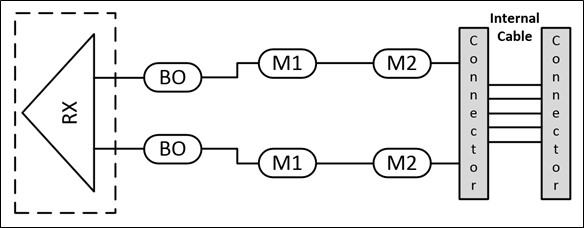dotted_rectangle: (10, 7, 119, 221)
oval: (256, 42, 322, 86), (368, 43, 437, 83), (256, 143, 323, 183), (142, 56, 206, 96), (369, 145, 435, 183), (143, 132, 203, 166)
rectangle: (455, 23, 492, 204), (539, 22, 574, 203)
triangle: (19, 26, 98, 206)
